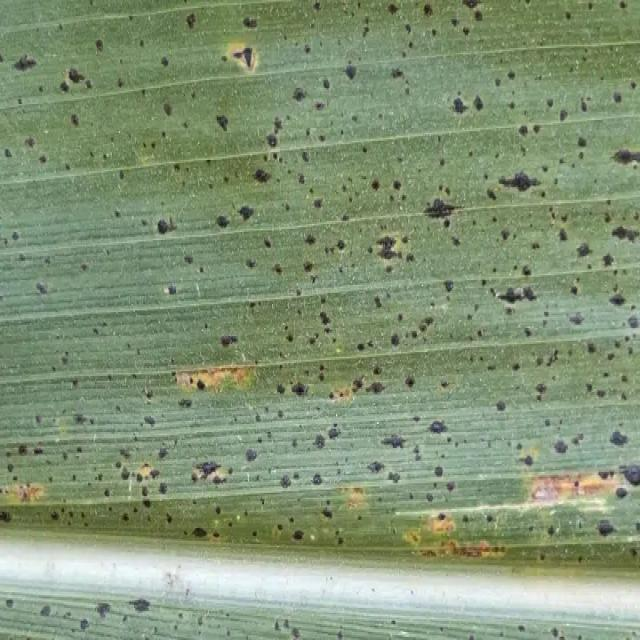Tar_Spot: (165, 408, 464, 546), (378, 148, 555, 333), (496, 376, 640, 555), (181, 30, 323, 206), (590, 143, 640, 322)
